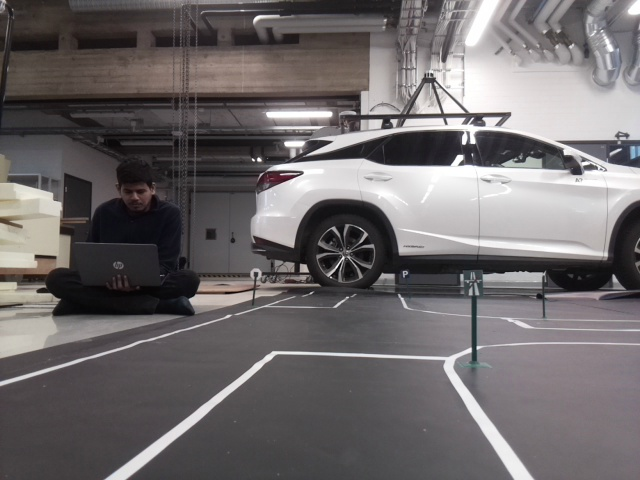HighwayExit: (463, 269, 482, 295)
